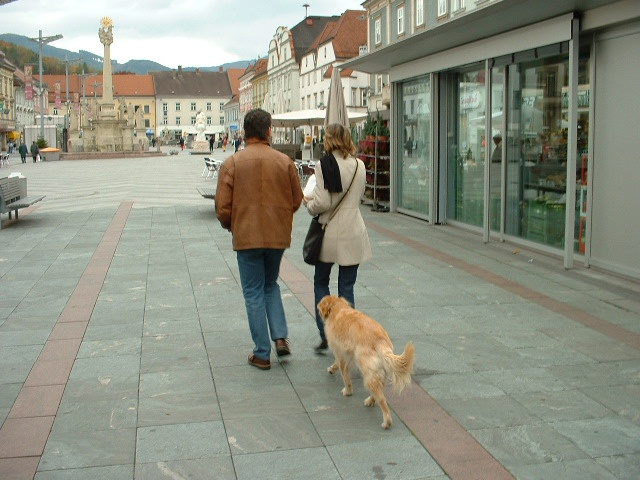person: (212, 109, 299, 368), (304, 124, 369, 351)
